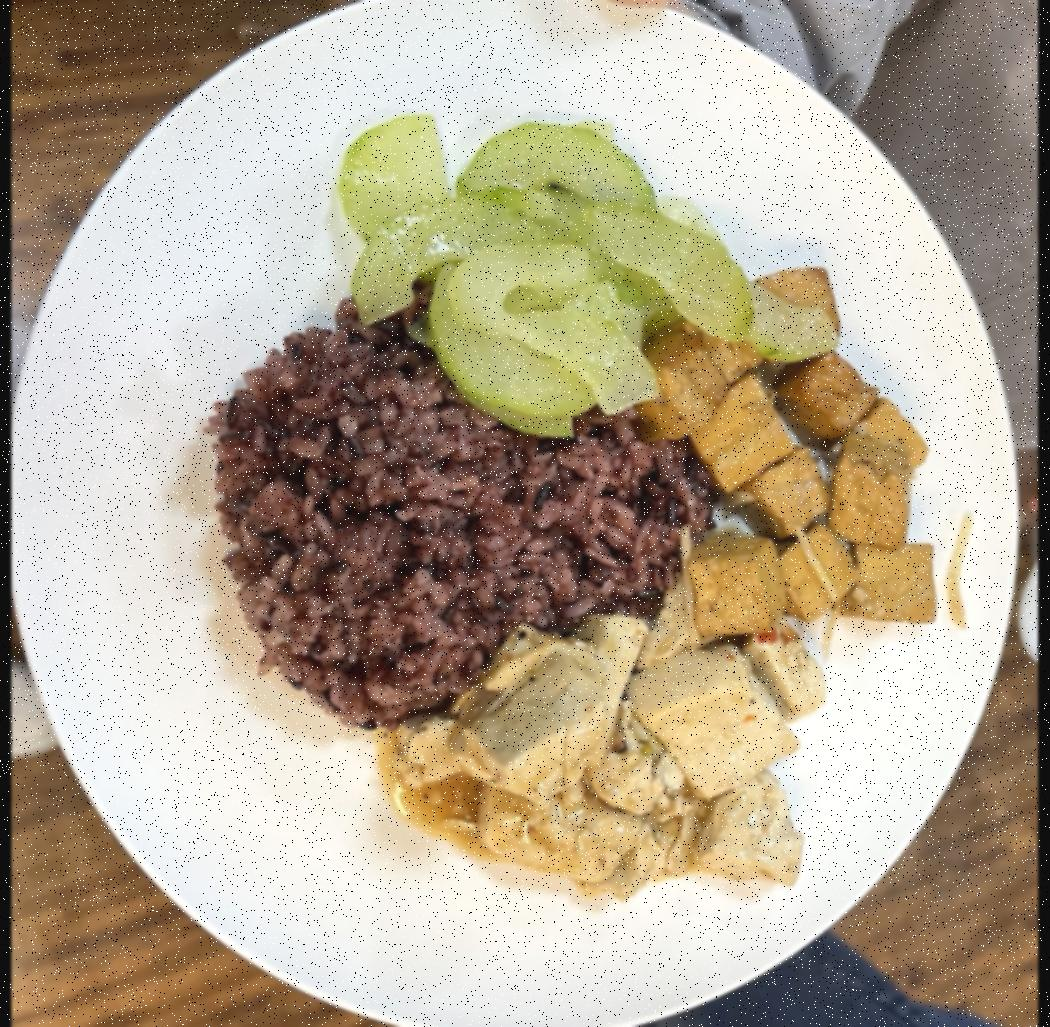plate: (11, 0, 1023, 1027)
purple rice: (220, 308, 703, 724)
side dish: (340, 114, 830, 433), (392, 615, 838, 904), (645, 262, 940, 643)
